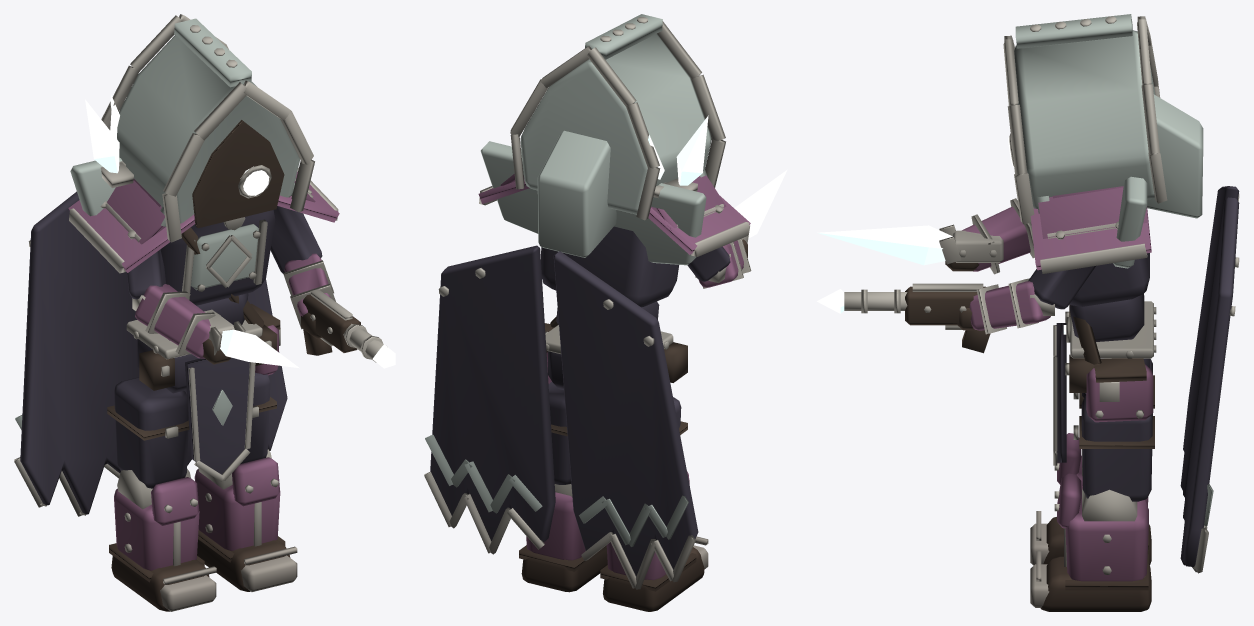
The model's file is shade.glb.
3 renders of one model, left to right at view 1: azimuth 30°, elevation 25°; view 2: azimuth 150°, elevation 25°; view 3: azimuth 270°, elevation 25°, orthographic. The views are drawn at different scales.
Parts seen in each view (by area): view 1: Charcoal_details.002, Team_details, Steel_details.002, Undercarriage_details.002, Charcoal_details, Shoulder_fins, Shin, Bracers, Shin.001, Undercarriage_details, Steel_details, Steel_details.001 (+8 smaller); view 2: Charcoal_details.002, Team_details, Steel_details.002, Undercarriage_details, Shoulder_fins, Undercarriage_details.001, Shin.001, Charcoal_details.001, Shoulder_crystals, Crystal_blade, Undercarriage_details.002, Shin (+1 smaller); view 3: Team_details, Charcoal_details.002, Steel_details.002, Undercarriage_details.002, Shoulder_fins, Shin.001, Charcoal_details.001, Undercarriage_details.001, Bracers, Crystal_blade, Satchel, Knee.001 (+5 smaller).
Boxes of the visible parts, left/top/right/bottom form: Charcoal_details.002: left=20, top=191, right=322, bottom=514; Team_details: left=15, top=18, right=299, bottom=429; Steel_details.002: left=14, top=14, right=383, bottom=516; Undercarriage_details.002: left=139, top=120, right=360, bottom=390; Charcoal_details: left=114, top=377, right=188, bottom=488; Shoulder_fins: left=68, top=172, right=339, bottom=272; Shin: left=114, top=488, right=199, bottom=570; Bracers: left=135, top=253, right=330, bottom=358; Shin.001: left=194, top=469, right=280, bottom=550; Undercarriage_details: left=107, top=405, right=209, bottom=611; Steel_details: left=124, top=425, right=216, bottom=611; Steel_details.001: left=205, top=406, right=297, bottom=591; Charcoal_details.002: left=430, top=226, right=730, bottom=576; Team_details: left=425, top=14, right=711, bottom=546; Steel_details.002: left=424, top=17, right=751, bottom=589; Undercarriage_details: left=600, top=421, right=704, bottom=611; Shoulder_fins: left=478, top=174, right=750, bottom=254; Undercarriage_details.001: left=519, top=424, right=607, bottom=592; Shin.001: left=526, top=492, right=585, bottom=560; Charcoal_details.001: left=548, top=382, right=571, bottom=484; Shoulder_crystals: left=648, top=115, right=708, bottom=185; Crystal_blade: left=734, top=169, right=787, bottom=238; Undercarriage_details.002: left=544, top=239, right=747, bottom=382; Shin: left=606, top=542, right=665, bottom=580; Team_details: left=1014, top=14, right=1213, bottom=526; Charcoal_details.002: left=1028, top=186, right=1239, bottom=566; Steel_details.002: left=844, top=16, right=1239, bottom=573; Undercarriage_details.002: left=905, top=261, right=1146, bottom=392; Shoulder_fins: left=1030, top=186, right=1151, bottom=270; Shin.001: left=1065, top=496, right=1148, bottom=581; Charcoal_details.001: left=1081, top=395, right=1152, bottom=501; Undercarriage_details.001: left=1040, top=416, right=1154, bottom=611; Bracers: left=962, top=206, right=1050, bottom=330; Crystal_blade: left=817, top=225, right=952, bottom=265; Satchel: left=1086, top=364, right=1153, bottom=422; Knee.001: left=1082, top=488, right=1137, bottom=521.
Bounding box in the file's own units: 1.27 × 2.46 × 1.67.
